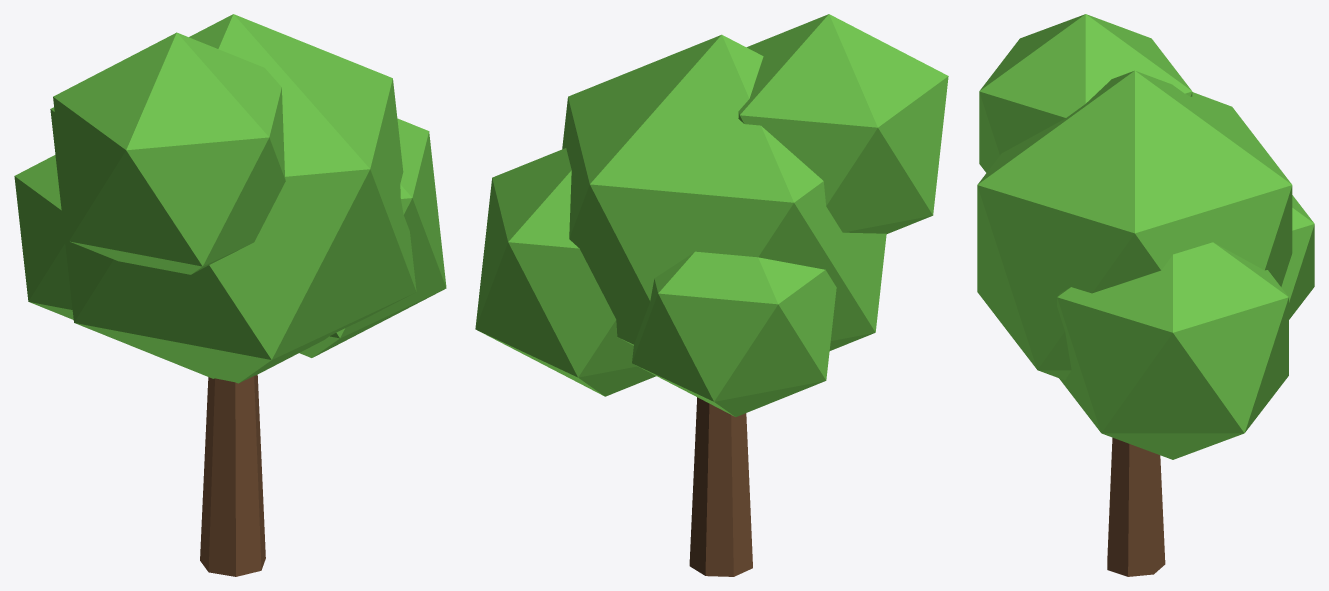
Rendered from tree_round.glb.
The picture shows the model from 3 angles, left to right: view 1: azimuth 30°, elevation 25°; view 2: azimuth 150°, elevation 25°; view 3: azimuth 270°, elevation 25°; orthographic projection. The views are drawn at different scales.
Visible parts, largest first — view 1: Canopy, Trunk; view 2: Canopy, Trunk; view 3: Canopy, Trunk.
Part boxes in pixels (box(x1,y1,x2,y2)): Canopy: box(14, 14, 446, 383); Trunk: box(200, 375, 265, 576); Canopy: box(475, 14, 948, 416); Trunk: box(689, 397, 752, 576); Canopy: box(977, 14, 1314, 459); Trunk: box(1107, 437, 1165, 576).
Size of the model in its own units: 3.9 by 5.2 by 3.1.
